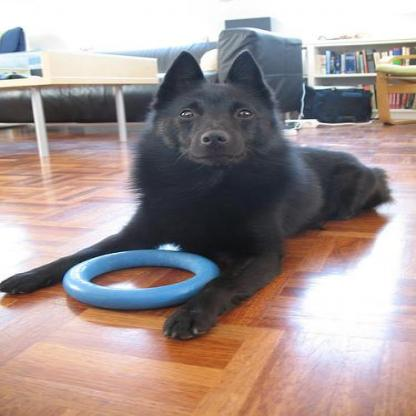schipperke: (0, 49, 390, 342)
